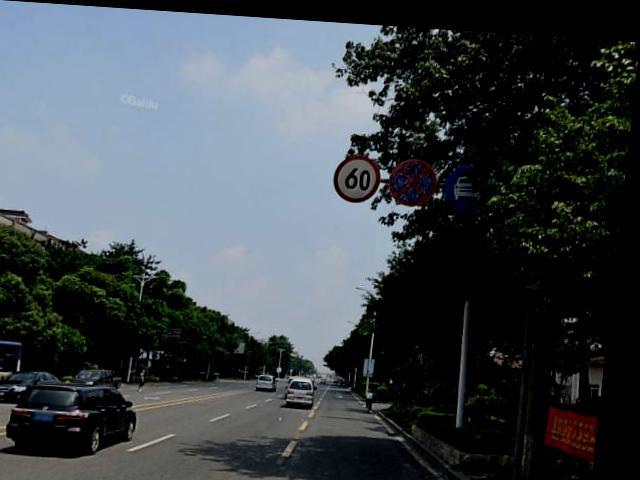limit60: (334, 151, 383, 196)
